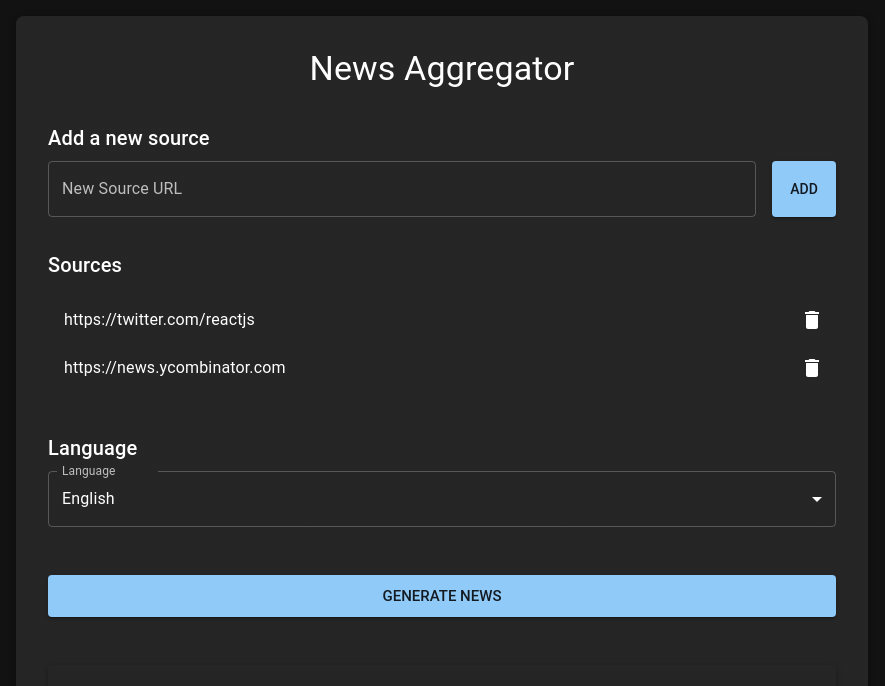
Test: App Integration Tests › allows adding a new source
The width and height of the screenshot is (885, 686).
Type "https://dev.to" into the field labelled "New Source URL".
click(402, 189); type("https://dev.to")  # box left=48, top=161, right=756, bottom=217
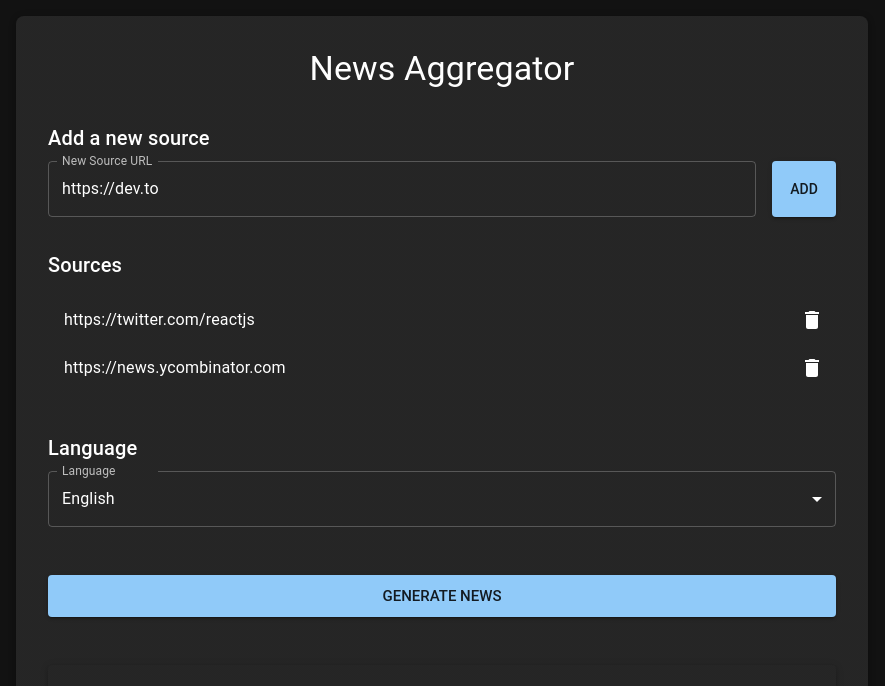
Click the button "Add".
click(804, 189)  # box left=772, top=161, right=836, bottom=217
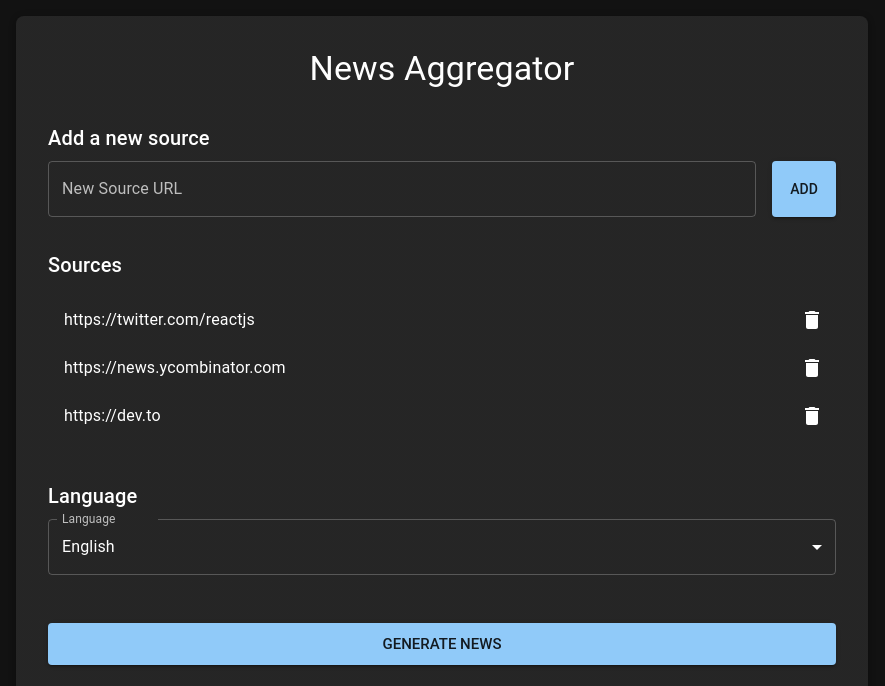
Expected: the text "https://dev.to" is shown, left=64, top=406, right=161, bottom=425
